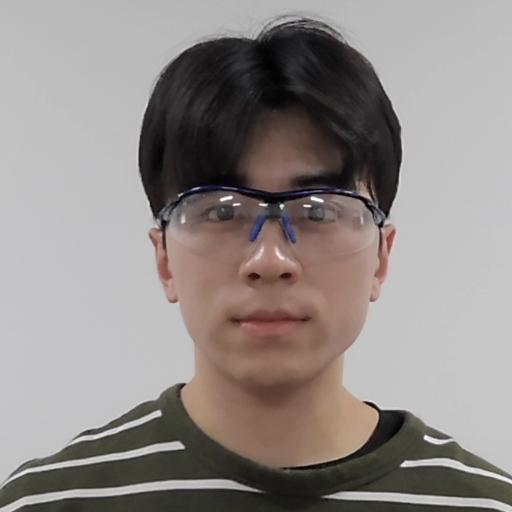glasses: (128, 18, 411, 394)
